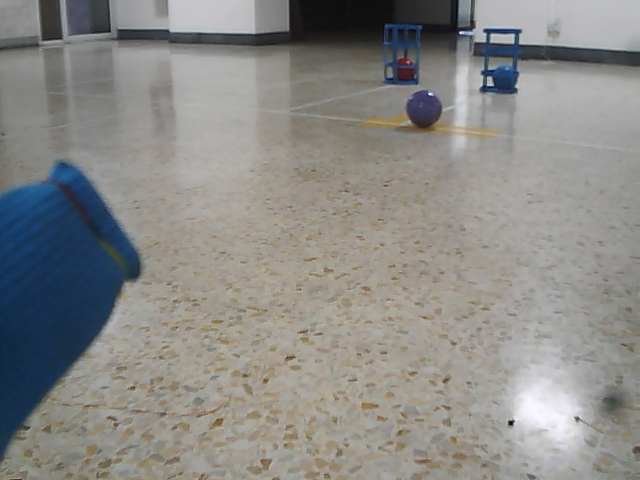Blue ball: (492, 65, 518, 91)
Cyro: (479, 26, 522, 95), (381, 22, 422, 86)
Purple ball: (405, 89, 443, 128)
Red ball: (395, 56, 417, 81)
